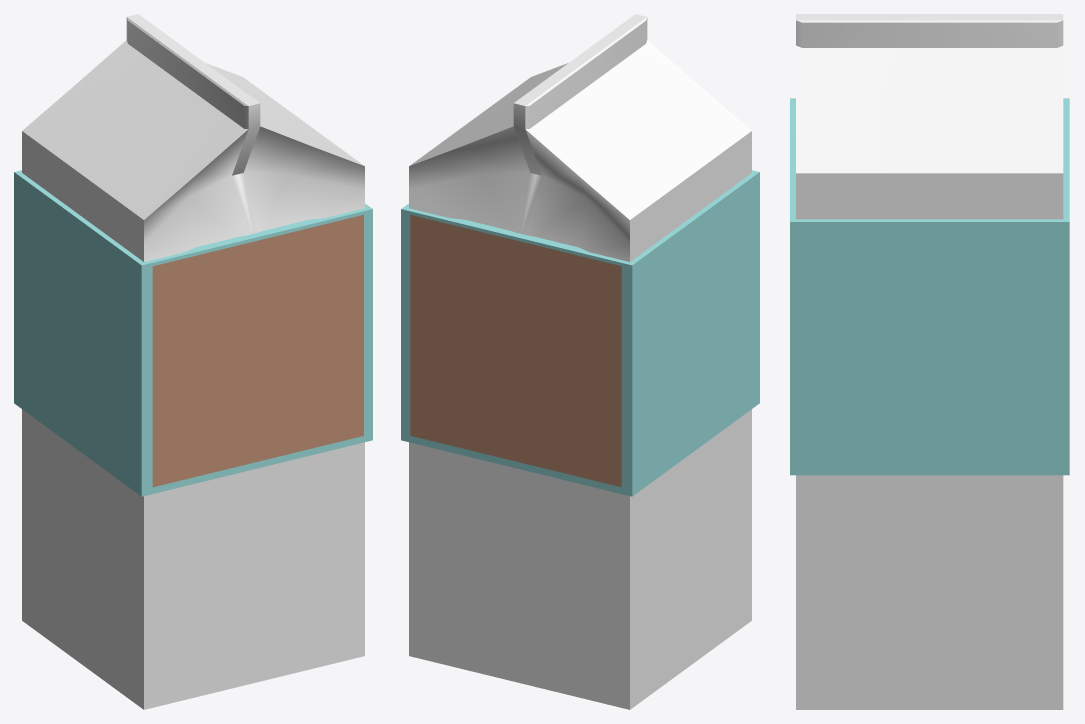
File: milk.glb
3 renders of one model, left to right at view 1: azimuth 30°, elevation 25°; view 2: azimuth 150°, elevation 25°; view 3: azimuth 270°, elevation 25°, orthographic. The views are drawn at different scales.
Parts seen in each view (by area): view 1: Box001, Plane001, Object001; view 2: Box001, Plane001, Object001; view 3: Box001, Object001.
Boxes of the visible parts, x1,y1,x2,y2 form: Box001: (22, 14, 364, 709); Plane001: (152, 215, 363, 487); Object001: (14, 170, 372, 496); Box001: (409, 14, 751, 709); Plane001: (410, 214, 621, 487); Object001: (401, 170, 759, 496); Box001: (796, 14, 1063, 709); Object001: (790, 98, 1069, 475).
Size of the model in its own units: 0.0278 by 0.0664 by 0.0268.
